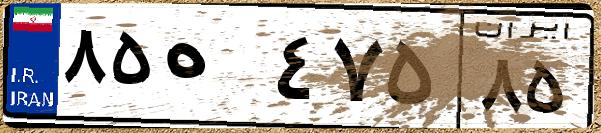4: (270, 28, 330, 110)
5: (385, 28, 445, 110), (525, 38, 570, 115), (110, 28, 158, 98)
7: (330, 28, 385, 110)
8: (57, 26, 110, 100), (475, 38, 525, 113)
ه: (158, 20, 270, 120)
